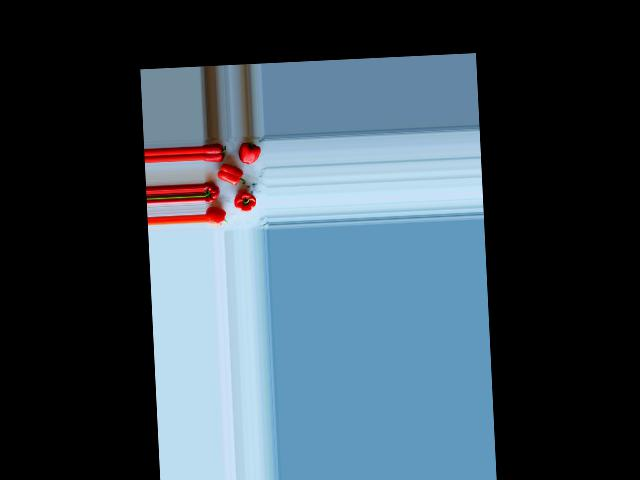bell_pepper: (204, 180, 220, 202)
